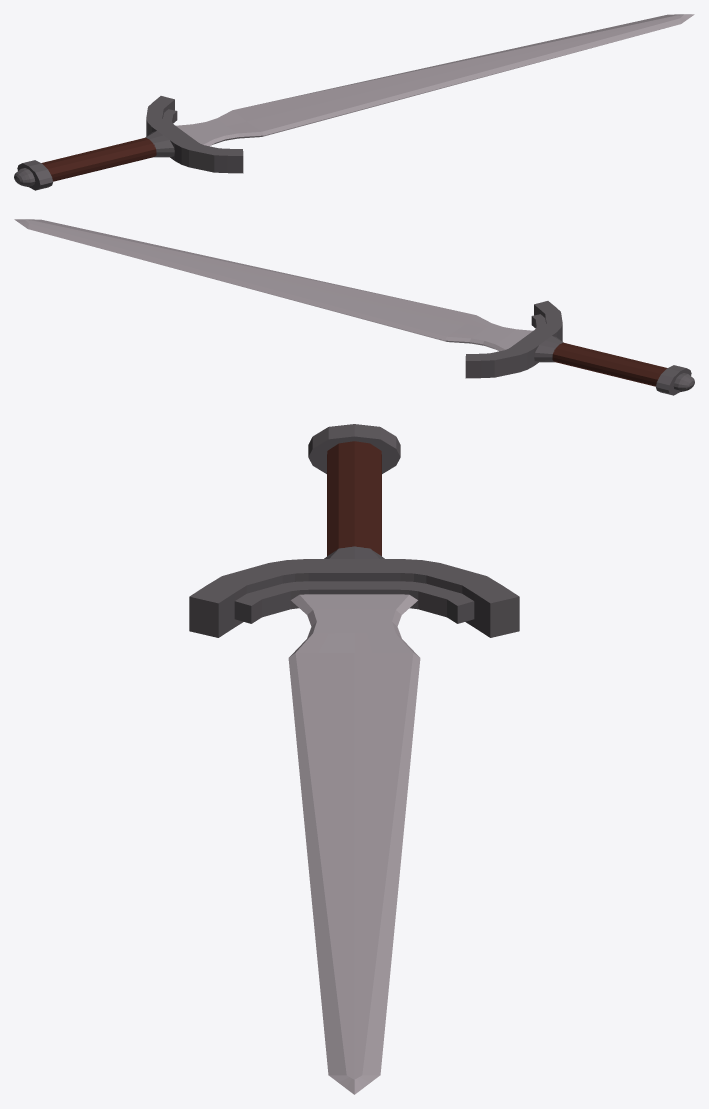
Rendered from Sword.fbx.
3 renders of one model, top to bottom at view 1: azimuth 30°, elevation 25°; view 2: azimuth 150°, elevation 25°; view 3: azimuth 270°, elevation 25°, orthographic. The views are drawn at different scales.
Visible parts, largest first — view 1: Sword; view 2: Sword; view 3: Sword.
Boxes of the visible parts, x1=… form: Sword: x1=14, y1=14, x2=694, y2=190; Sword: x1=14, y1=219, x2=694, y2=395; Sword: x1=189, y1=424, x2=519, y2=1094.
Bounding box in the file's own units: 115 × 3.36 × 24.12.
Materials: 1 (1 with a texture image).
